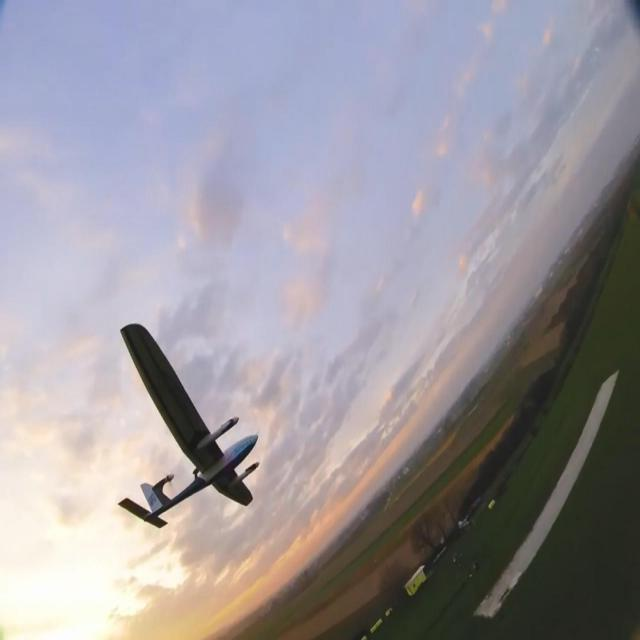iha: (100, 323, 265, 540)
